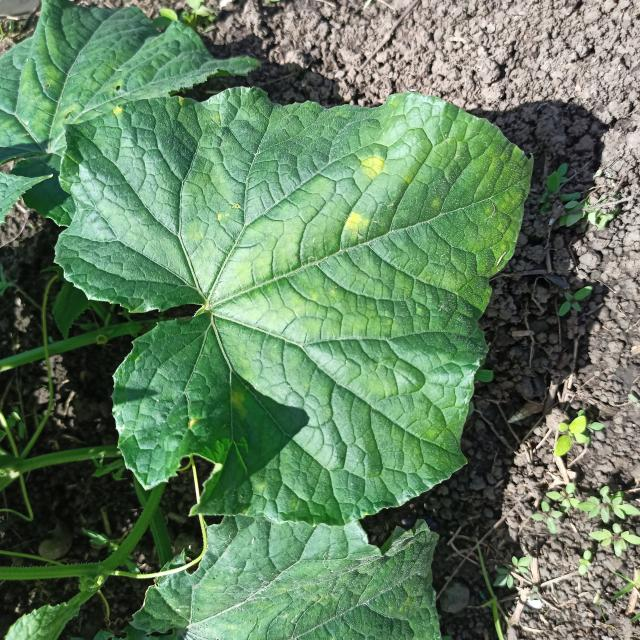disease_cucumber: (360, 155, 388, 177), (343, 210, 362, 230), (111, 108, 125, 115)
